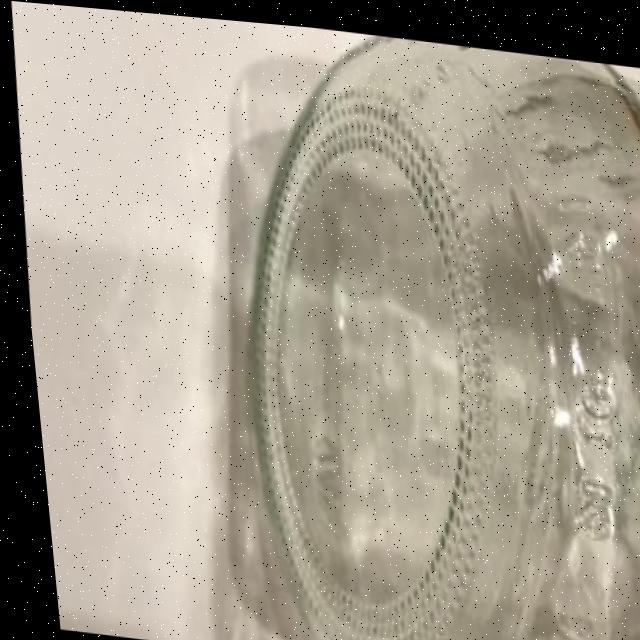glass: (202, 14, 640, 640)
